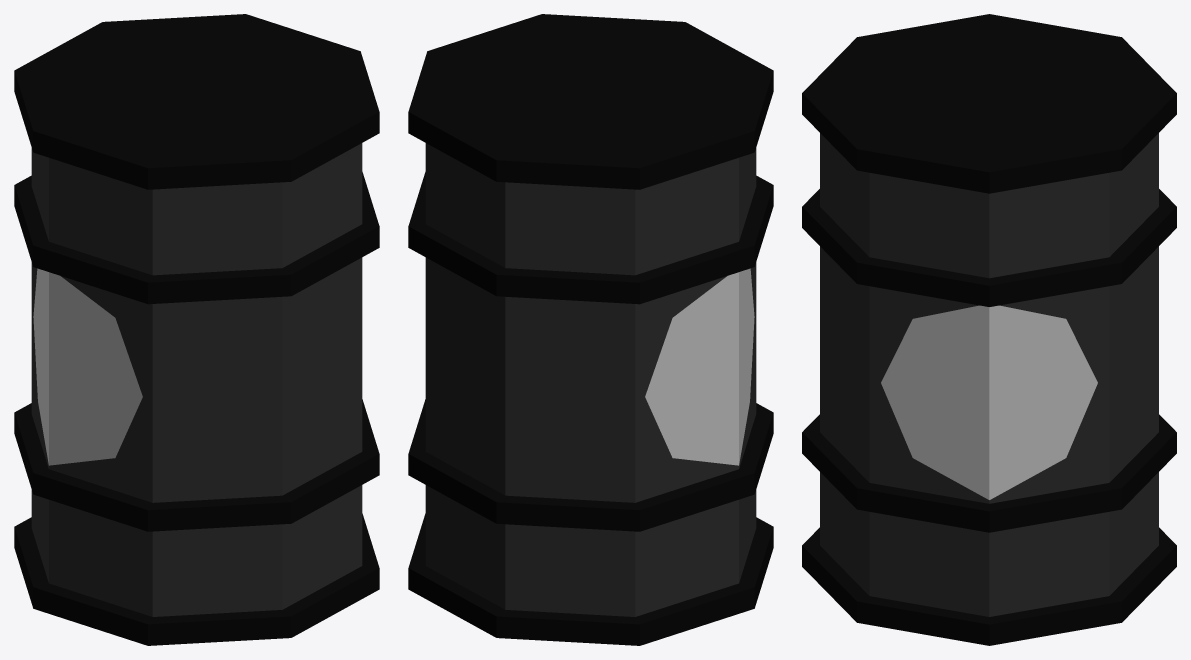
The model's file is barrel_neft.fbx.
The picture shows the model from 3 angles, left to right: view 1: azimuth 30°, elevation 25°; view 2: azimuth 150°, elevation 25°; view 3: azimuth 270°, elevation 25°; orthographic projection.
Visible parts, largest first — view 1: barrel_neft; view 2: barrel_neft; view 3: barrel_neft.
Part boxes in pixels (x1,y1,x2,y2): barrel_neft: [14, 14, 379, 645]; barrel_neft: [408, 14, 773, 645]; barrel_neft: [802, 14, 1176, 645].
Size of the model in its own units: 62.95 by 87.79 by 62.95.
